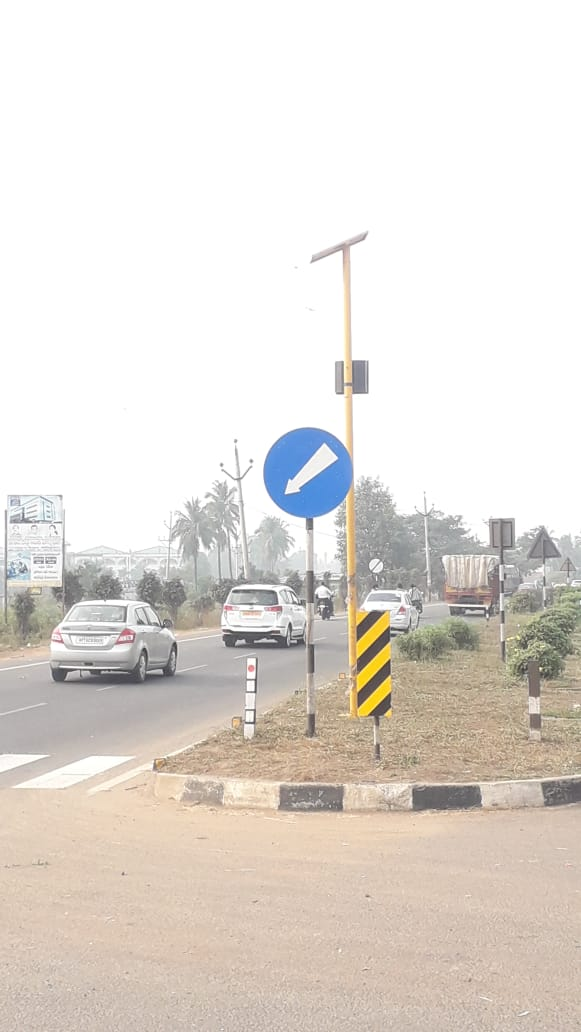go left: (240, 409, 366, 539)
